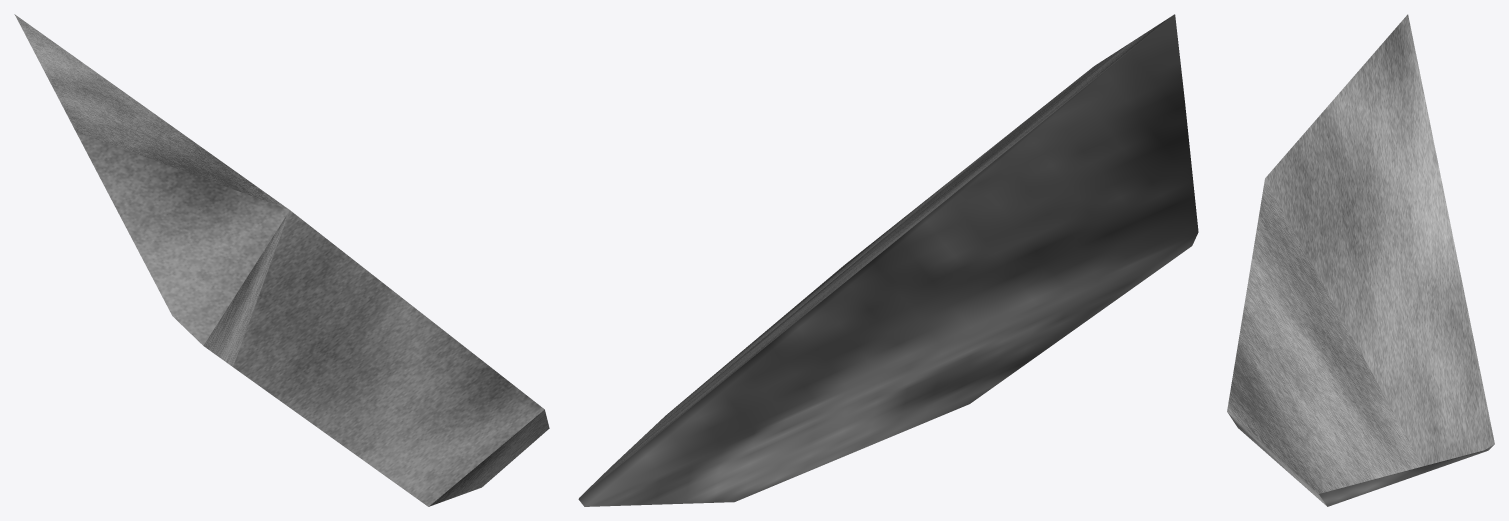
The model's file is tail_cell_018.fbx.
The picture shows the model from 3 angles, left to right: view 1: azimuth 30°, elevation 25°; view 2: azimuth 150°, elevation 25°; view 3: azimuth 270°, elevation 25°; orthographic projection. The views are drawn at different scales.
Visible parts, largest first — view 1: tail_cell.018; view 2: tail_cell.018; view 3: tail_cell.018.
Boxes of the visible parts, x1,y1,x2,y2 form: tail_cell.018: (14,14,549,506); tail_cell.018: (578,14,1198,506); tail_cell.018: (1227,14,1494,506).
Size of the model in its own units: 35.19 by 37.95 by 25.73.
